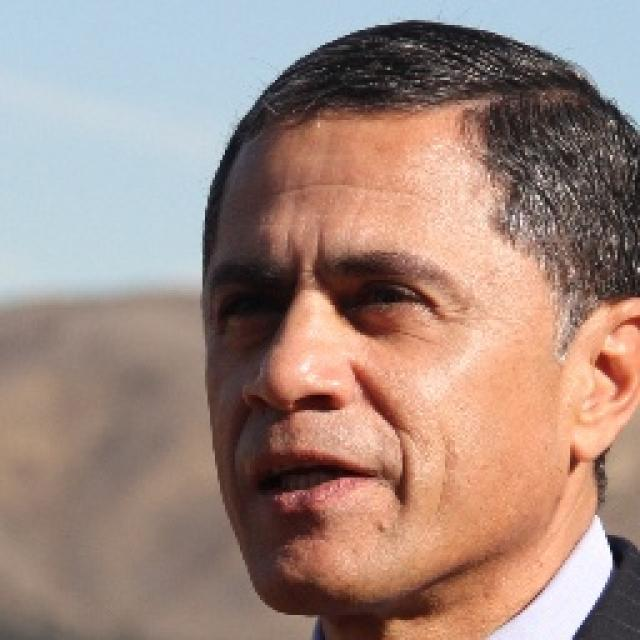earlobe: (568, 410, 611, 464)
eye: (352, 286, 423, 312), (220, 292, 270, 318)
nose: (238, 382, 338, 458)
wholeear: (567, 297, 640, 462)
